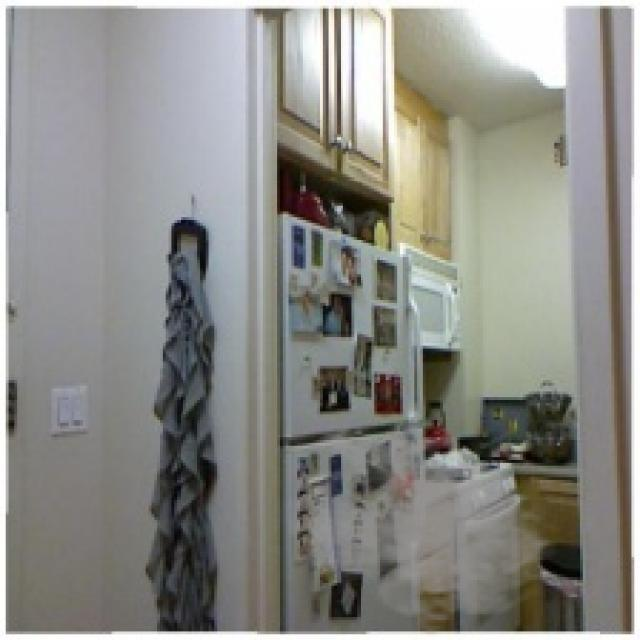Smoke: (277, 422, 560, 638)
